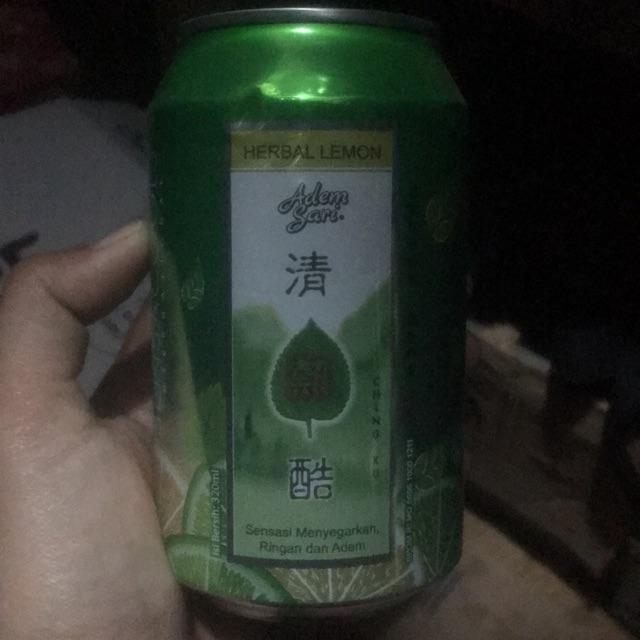ademsarikaleng: (144, 6, 471, 623)
